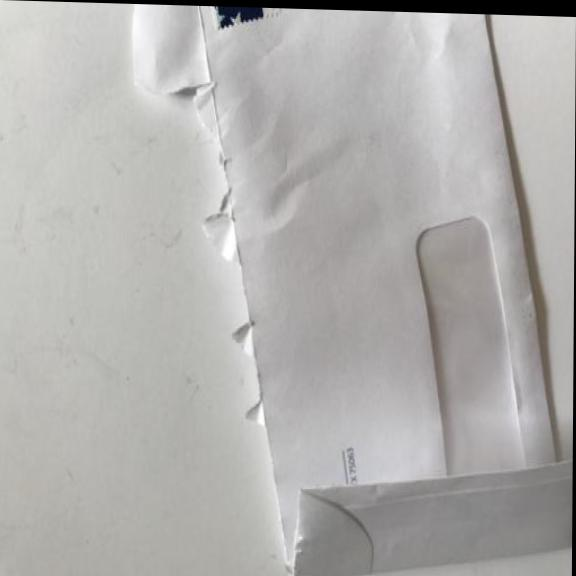Kertas: (122, 4, 576, 576)
